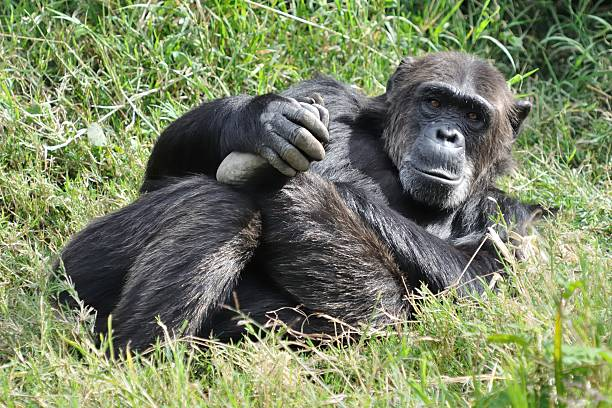chimpanzee: (381, 39, 546, 239)
